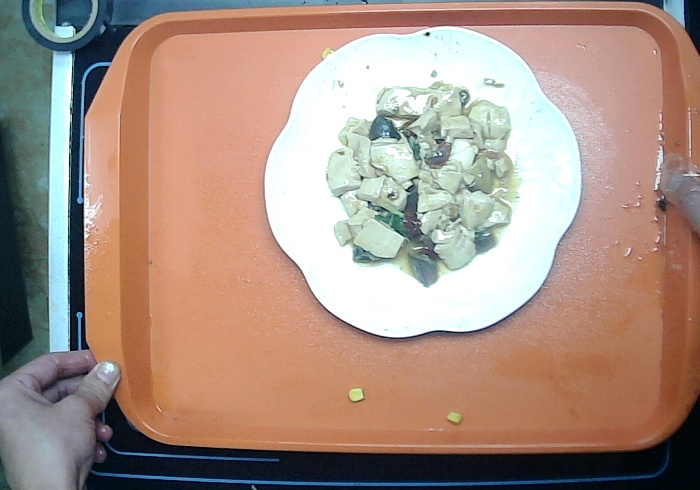HZYJPL-Bai_Se_Hua_Duo_Wan: (263, 26, 588, 343)
